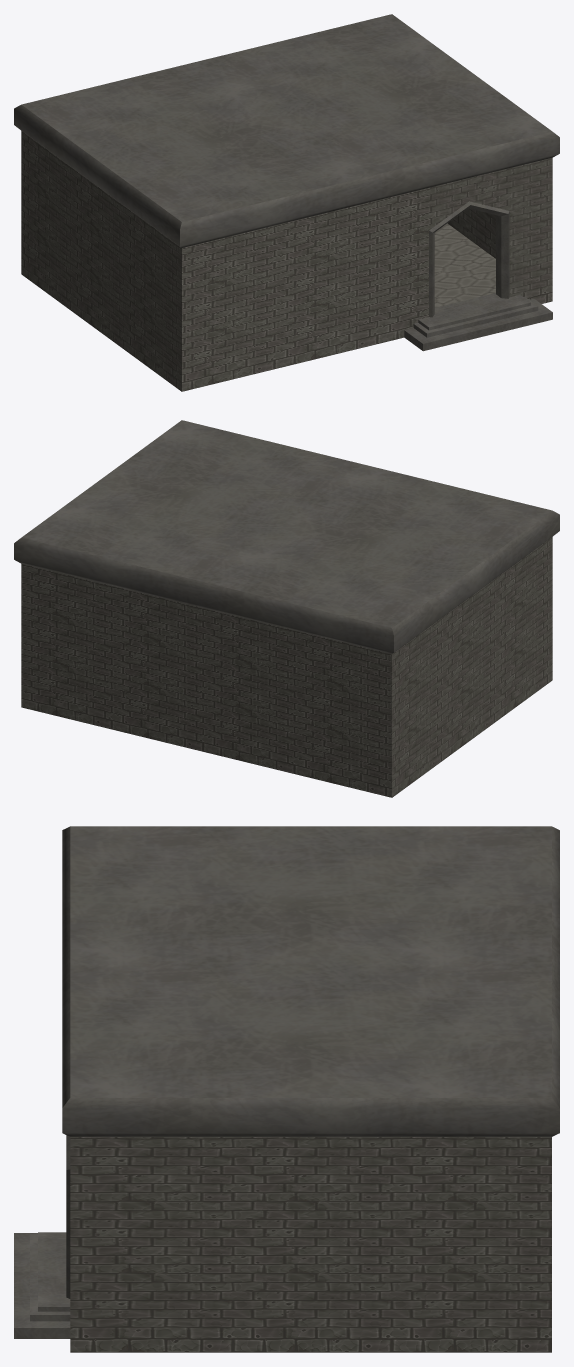
File: Ruins_Building_01.fbx
The picture shows the model from 3 angles, top to bottom: view 1: azimuth 30°, elevation 25°; view 2: azimuth 150°, elevation 25°; view 3: azimuth 270°, elevation 25°; orthographic projection. The views are drawn at different scales.
Parts seen in each view (by area): view 1: Ruins_Building_01; view 2: Ruins_Building_01; view 3: Ruins_Building_01.
Boxes of the visible parts, x1,y1,x2,y2 form: Ruins_Building_01: (14,14,559,391); Ruins_Building_01: (14,420,559,797); Ruins_Building_01: (14,826,559,1352).
Size of the model in its own units: 82 by 35 by 68.
